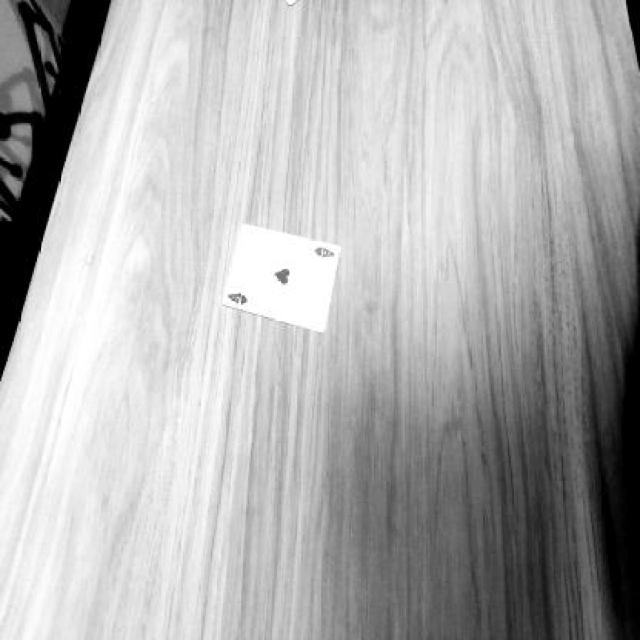AH: (312, 243, 338, 265), (226, 288, 251, 304)
